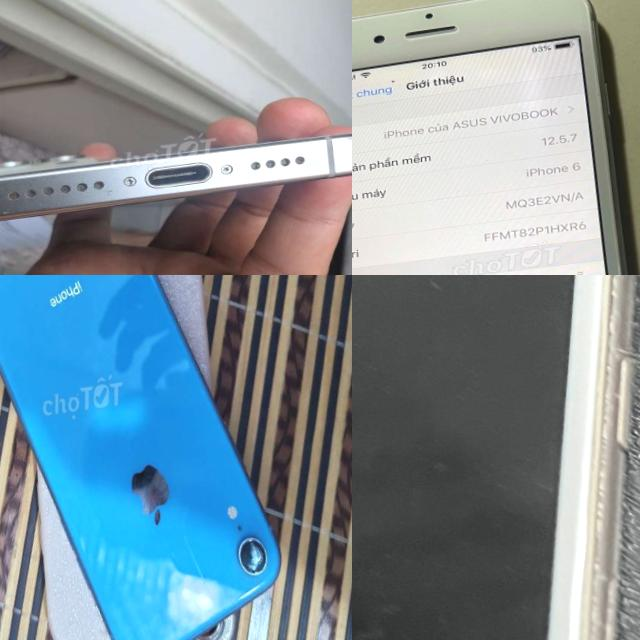gen_15: (0, 81, 352, 275)
gen_6: (352, 0, 640, 275)
gen_7_8: (352, 275, 640, 640)
gen_x_xs: (0, 275, 280, 640)
scratch: (0, 199, 20, 224), (96, 184, 120, 203), (246, 530, 258, 546)
